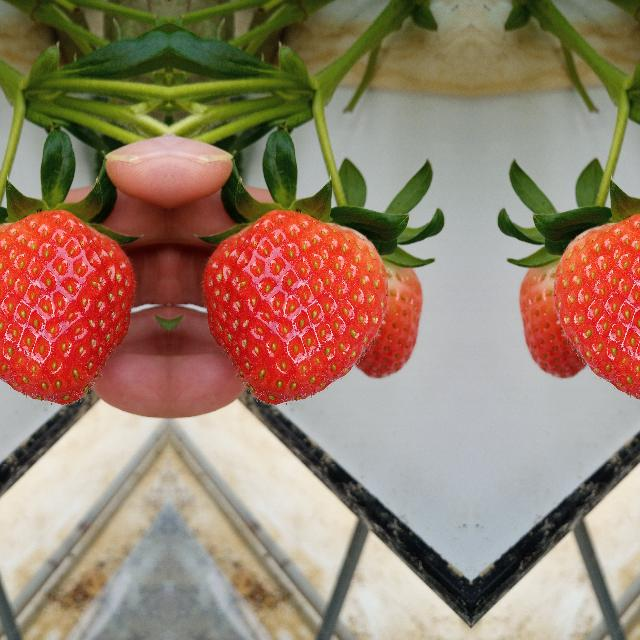Health_100: (198, 209, 390, 407), (0, 209, 137, 407), (551, 209, 640, 407), (511, 248, 594, 394), (348, 248, 430, 394)
